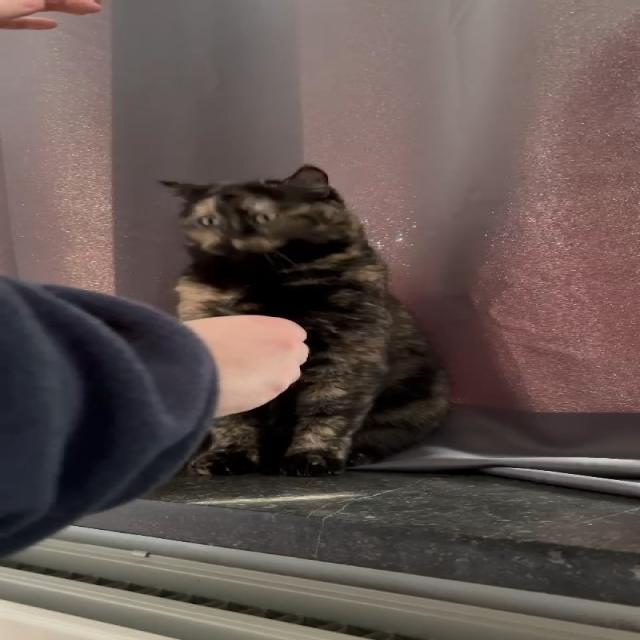authorized: (157, 163, 452, 477)
